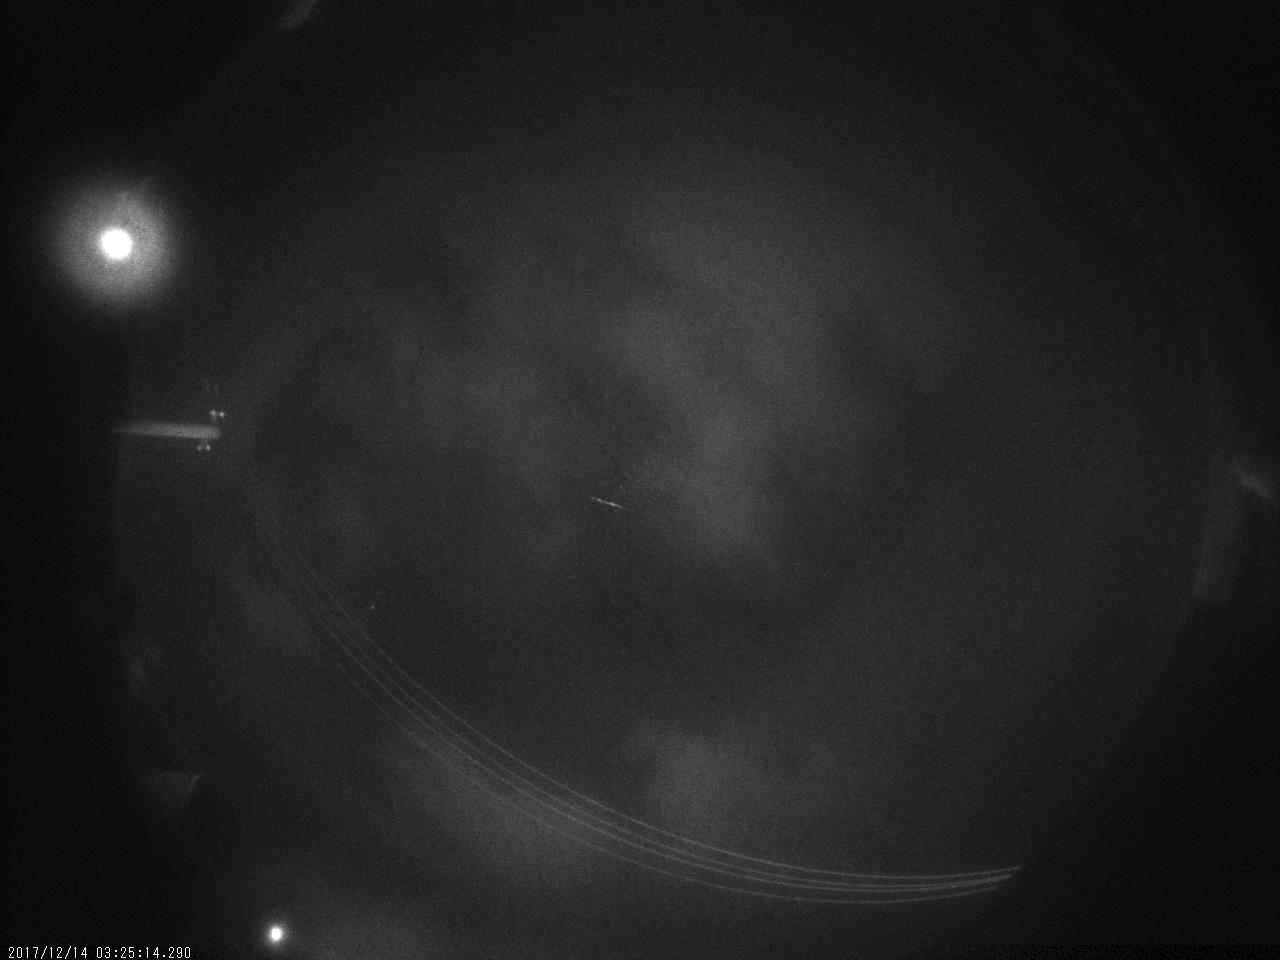meteor: (578, 482, 649, 527)
